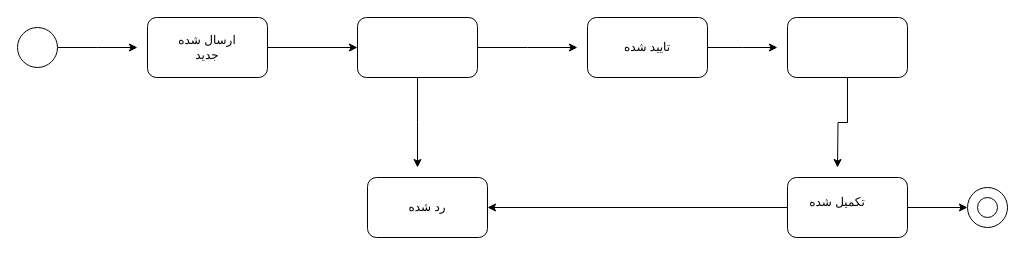
Image size: 1025x255. Some labels were removed from this diagram. Each missing label, with the box of its shape:
در انتظار برسی: (356, 16, 478, 78)
در حال اجرا: (786, 16, 908, 78)
